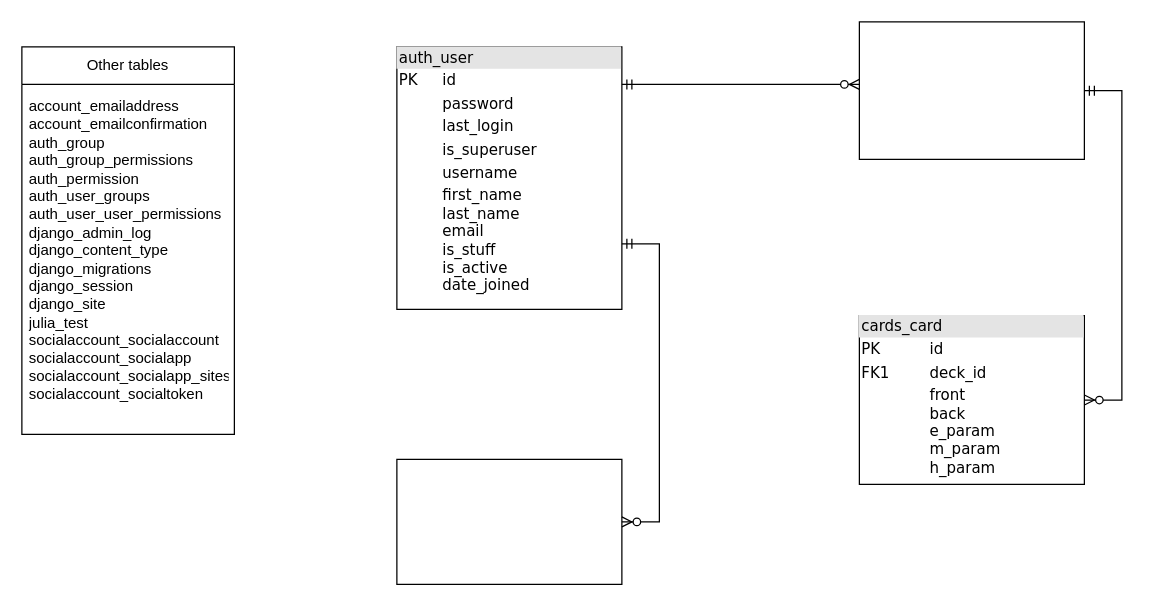
Some shapes in this 1155 by 606 pixel diagram are drawn without their labels. Each missing label, with the centre of its shape:
daily_card_learning PK id FK1 user_id date count: pixel 509 521
decks_deck PK id FK1 user_id name date_created date_updated: pixel 971 90
